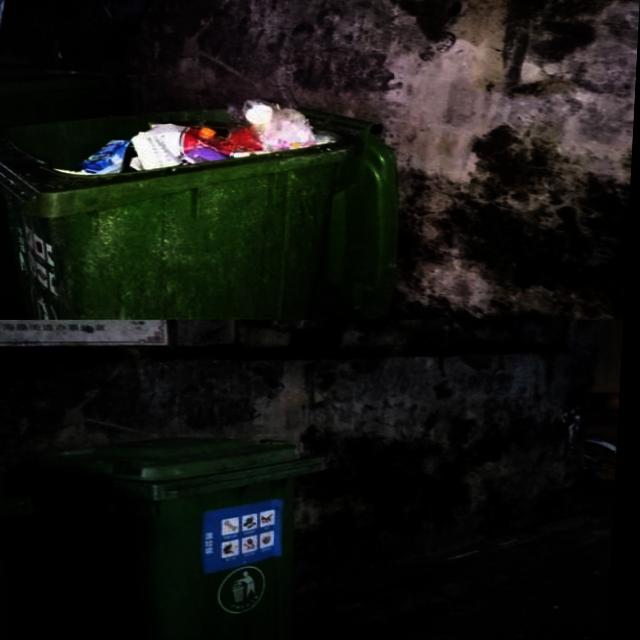garbage_bin: (28, 434, 330, 639)
overflow: (0, 98, 403, 317)
